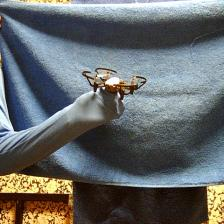drone: (82, 64, 148, 98)
